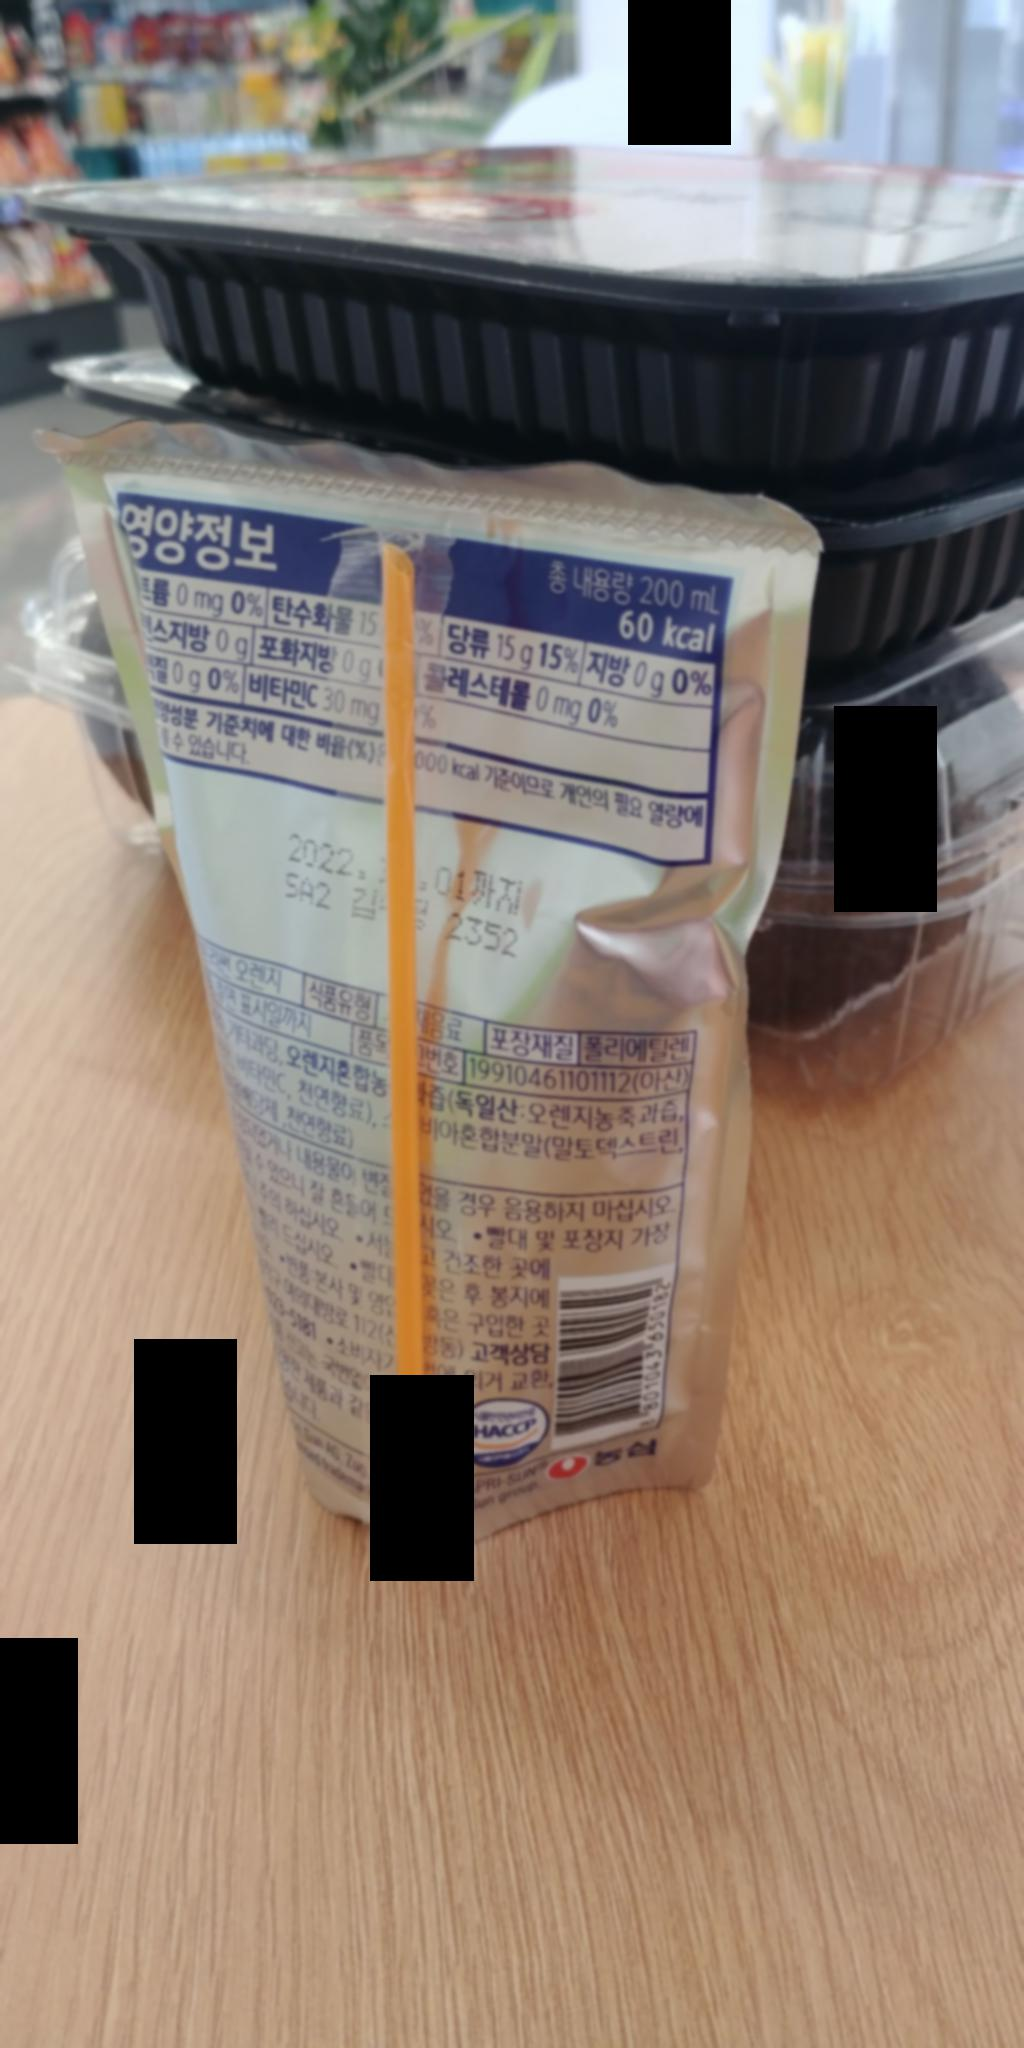cafrisun: (0, 388, 824, 1582)
